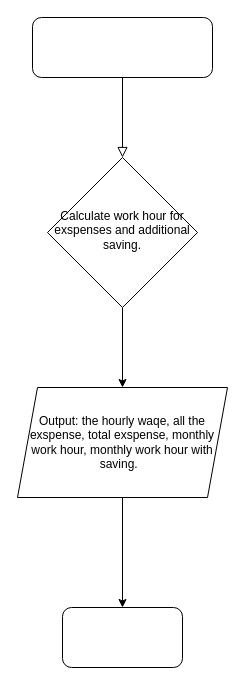
The diagram is 245 pixels wide and 685 high, and some of its shapes have lost their labels. Here are the shapes that lost their labels. From the top down, the box of each, then its label:
(32, 16, 212, 78): Create variables and initialize values
(62, 606, 182, 668): End.
